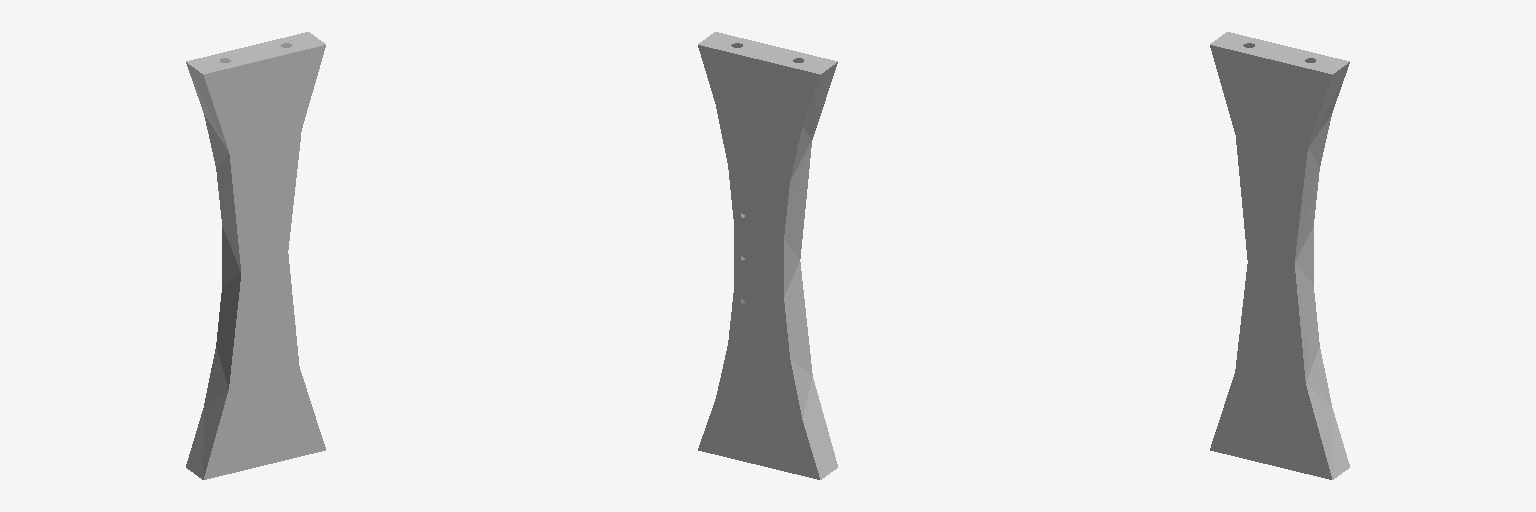
Rendered from travessa_b.obj.
3 views of the same model, side by side, from view 1: azimuth 30°, elevation 25°; view 2: azimuth 150°, elevation 25°; view 3: azimuth 330°, elevation 25° (orthographic).
Size of the model in its own units: 0.06 by 0.189 by 0.015.